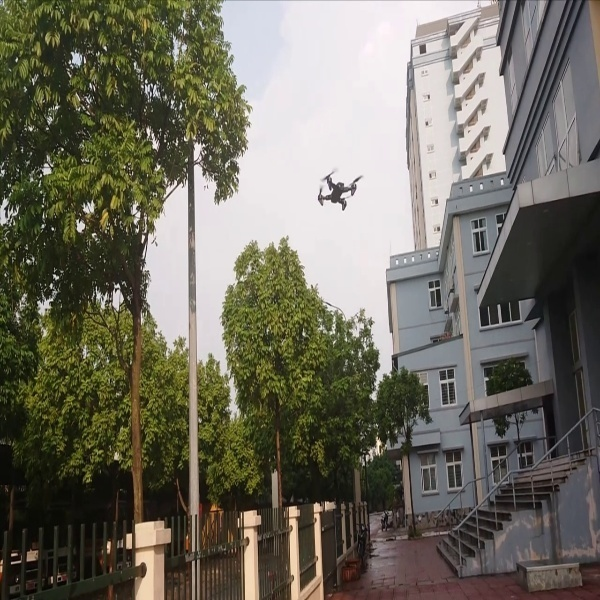drone: (299, 158, 368, 217)
